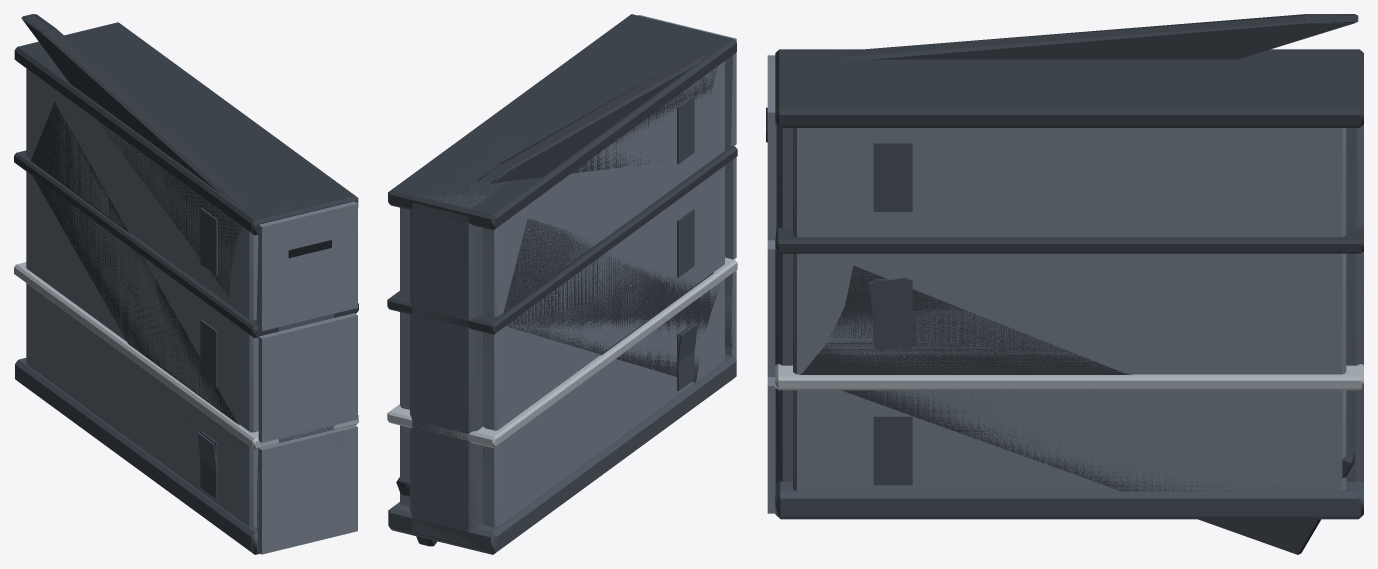
The model's file is hlx_cmp_blast_wall_a.glb.
The picture shows the model from 3 angles, left to right: view 1: azimuth 30°, elevation 25°; view 2: azimuth 150°, elevation 25°; view 3: azimuth 270°, elevation 25°; orthographic projection. The views are drawn at different scales.
Parts seen in each view (by area): view 1: mesh_intact, mesh_heavy; view 2: mesh_heavy, mesh_intact; view 3: mesh_intact, mesh_heavy, mesh_light.
Part boxes in pixels (box(x1,y1,x2,y2)): mesh_intact: box(26, 68, 357, 554); mesh_heavy: box(14, 14, 358, 554); mesh_heavy: box(387, 14, 737, 554); mesh_intact: box(400, 15, 736, 527); mesh_intact: box(767, 55, 1356, 513); mesh_heavy: box(766, 14, 1363, 554); mesh_light: box(797, 253, 1342, 373).
Bounding box in the file's own units: 0.3 × 1.06 × 1.19.
